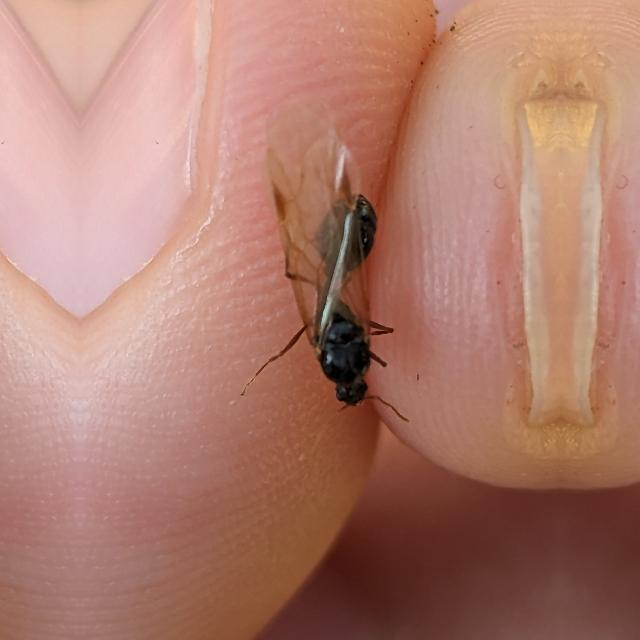Tetramorium: (269, 149, 427, 421)
